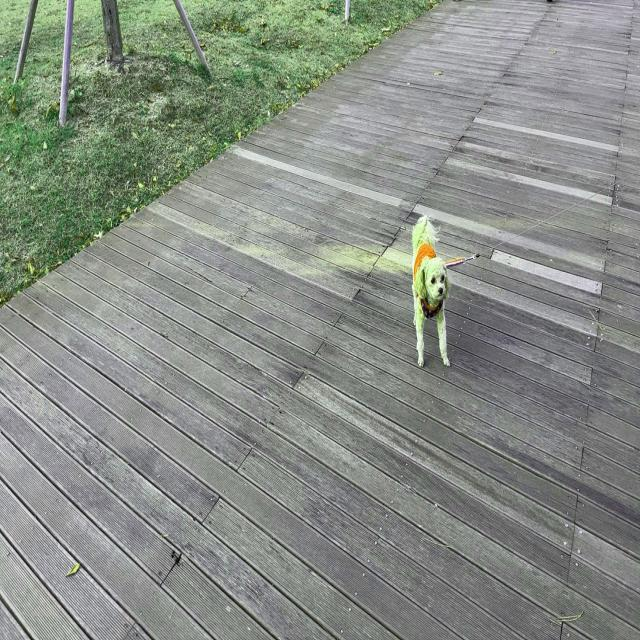Dog: (411, 211, 452, 369)
